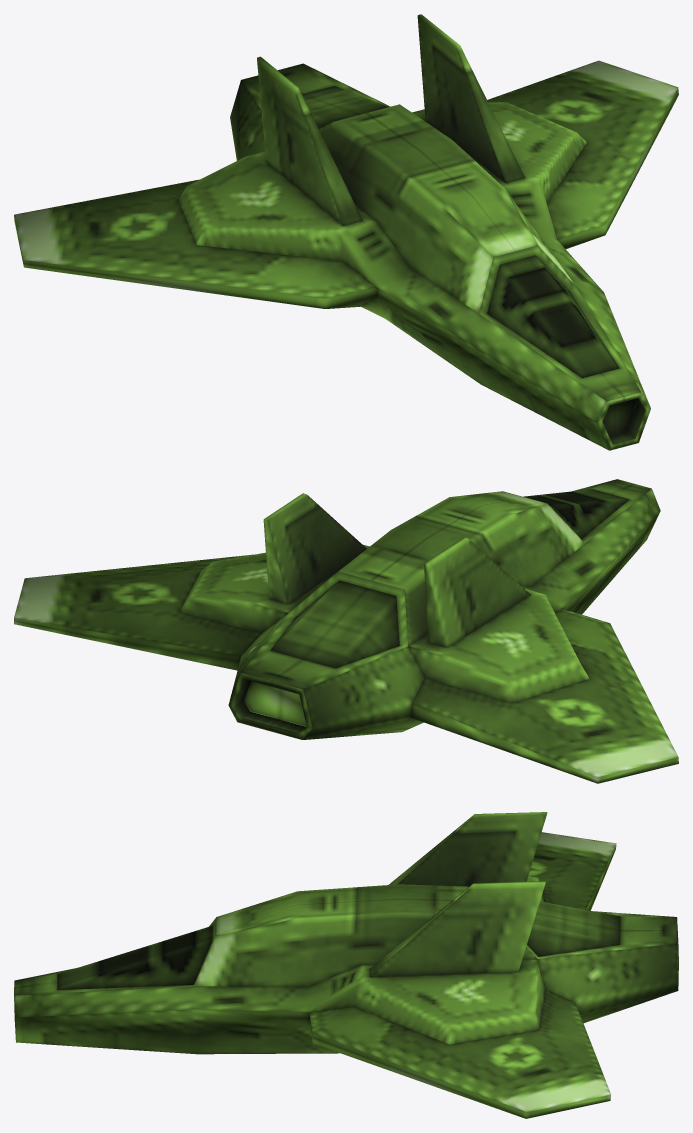
Rendered from alien.obj.
3 views of the same model, one above another, from view 1: azimuth 30°, elevation 25°; view 2: azimuth 150°, elevation 25°; view 3: azimuth 270°, elevation 25° (orthographic). The views are drawn at different scales.
Visible parts, largest first — view 1: space_frigate_6; view 2: space_frigate_6; view 3: space_frigate_6.
Part boxes in pixels (bbox=[...]): space_frigate_6: bbox=[14, 14, 678, 450]; space_frigate_6: bbox=[14, 479, 678, 783]; space_frigate_6: bbox=[14, 812, 678, 1118].
Bounding box in the file's own units: 1.18 × 0.3537 × 1.12.
